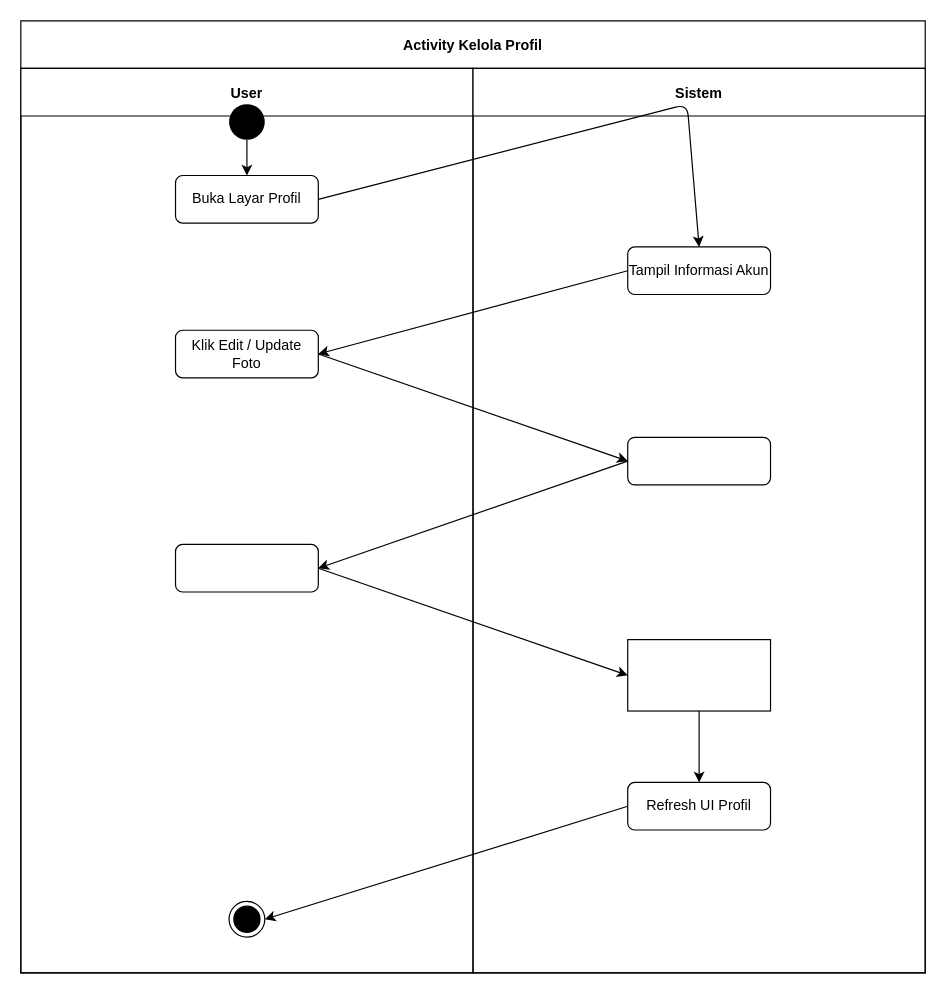
Some shapes in this 946 by 994 pixel diagram are drawn without their labels. The centre of each missing label's shape, as x and y in pixels:
Buka Image Picker / Form Edit: pixel 699 460
Simpan Perubahan: pixel 246 567
Upload ke Storage 'avatars' & Update DB: pixel 699 674
